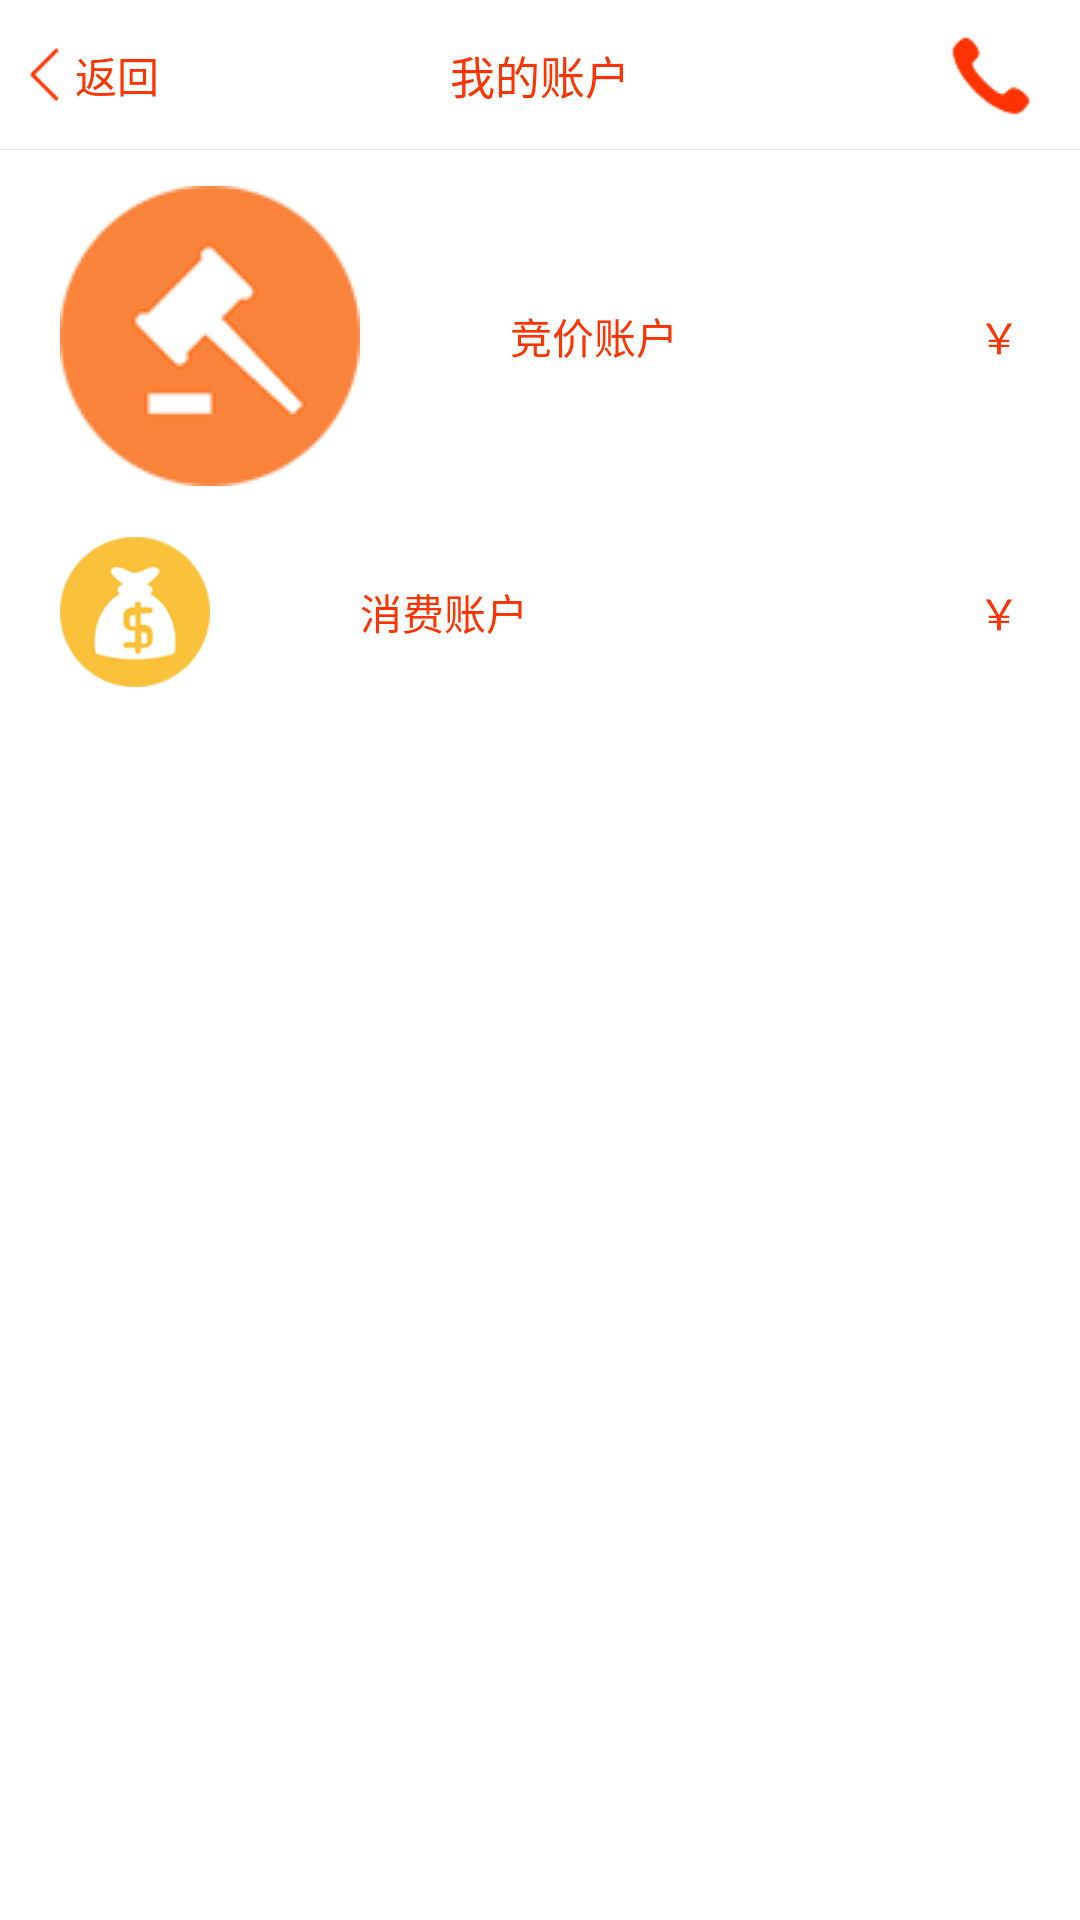

Where icons sit on this 1080px×1920px app screen, as region(x1, y1, x2, y2):
account pay: region(60, 537, 210, 687)
auction account: region(60, 186, 360, 486)
phone: region(952, 37, 1030, 115)
